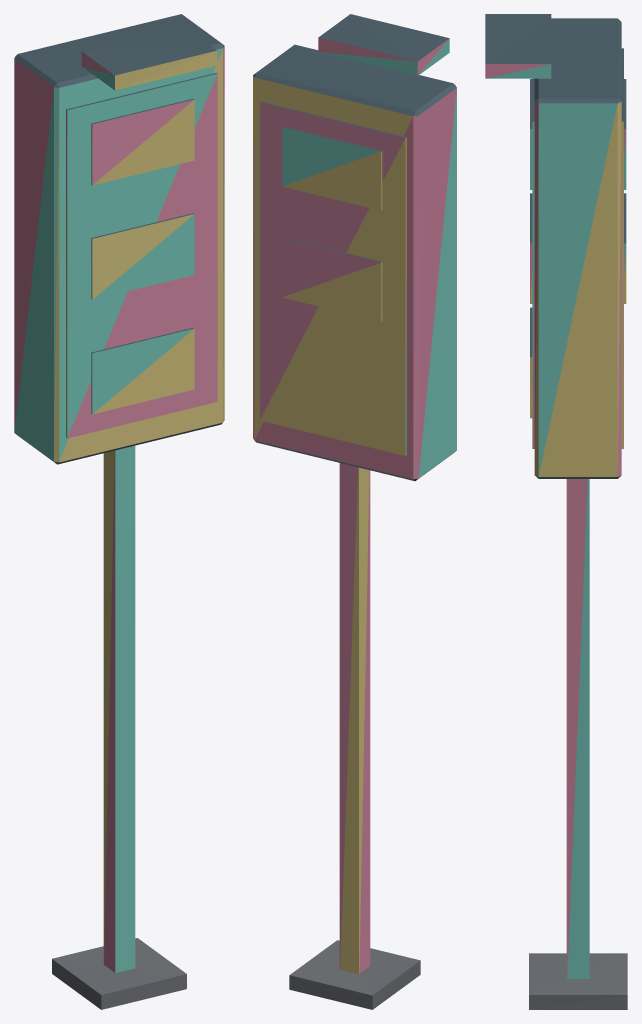
File: neon-box-sign-00.glb
The picture shows the model from 3 angles, left to right: view 1: azimuth 30°, elevation 25°; view 2: azimuth 150°, elevation 25°; view 3: azimuth 270°, elevation 25°; orthographic projection. The views are drawn at different scales.
Visible parts, largest first — view 1: neon_box_sign_00; view 2: neon_box_sign_00; view 3: neon_box_sign_00.
Boxes of the visible parts, bbox=[...] form: neon_box_sign_00: bbox=[14, 14, 224, 1009]; neon_box_sign_00: bbox=[253, 14, 456, 1009]; neon_box_sign_00: bbox=[485, 14, 627, 1009].
Size of the model in its own units: 0.5973 by 3.18 by 0.4321.
